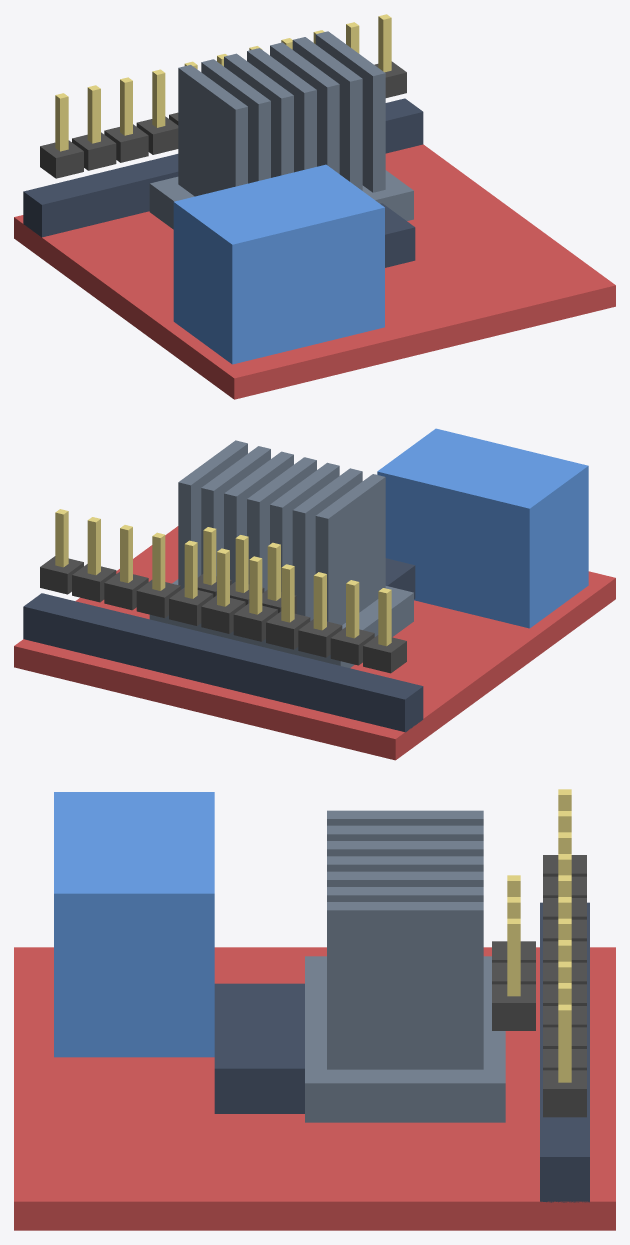
The model's file is tb6612fng-motor-driver.glb.
3 renders of one model, top to bottom at view 1: azimuth 30°, elevation 25°; view 2: azimuth 150°, elevation 25°; view 3: azimuth 270°, elevation 25°, orthographic. The views are drawn at different scales.
Visible parts, largest first — view 1: tb6612fng-motor-driver_mesh; view 2: tb6612fng-motor-driver_mesh; view 3: tb6612fng-motor-driver_mesh.
Part boxes in pixels (x1,y1,x2,y2): tb6612fng-motor-driver_mesh: [14, 14, 615, 399]; tb6612fng-motor-driver_mesh: [14, 428, 615, 760]; tb6612fng-motor-driver_mesh: [14, 789, 615, 1230].
Bounding box in the file's own units: 30 × 13.36 × 30.
